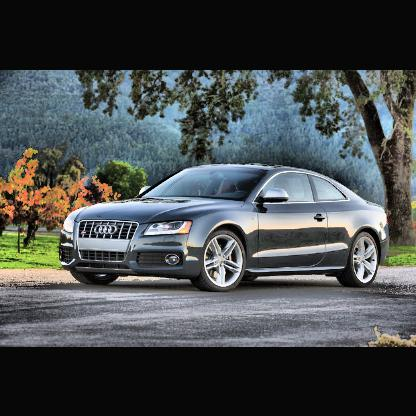Audi A5 Coupe 2012: (59, 162, 394, 294)
